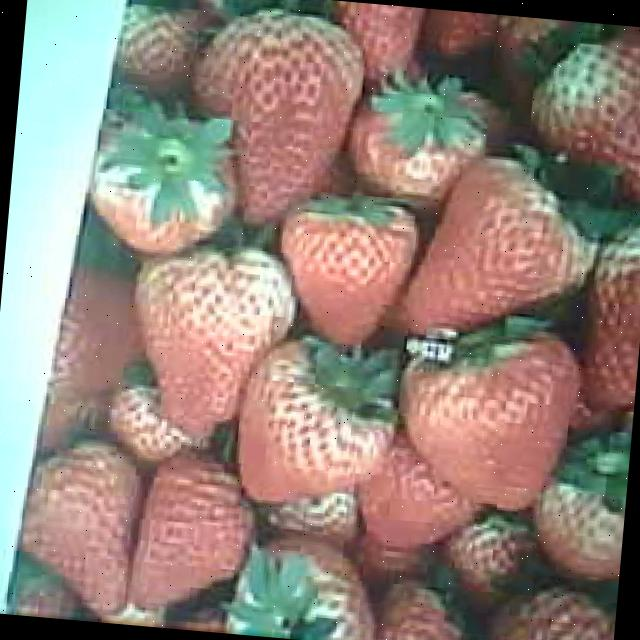strawberry: (188, 3, 370, 232), (404, 153, 597, 349), (394, 320, 584, 516), (122, 241, 300, 433), (232, 339, 402, 512), (10, 434, 142, 614), (273, 192, 418, 352)
